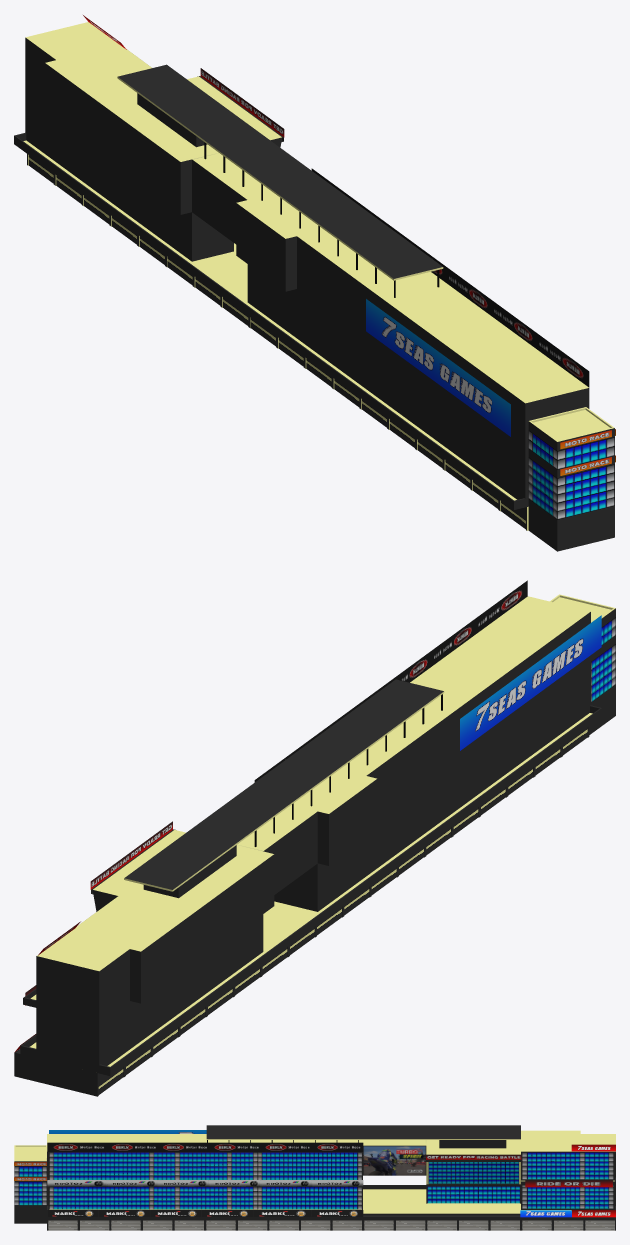
The model's file is Stadium_Glass.fbx.
The picture shows the model from 3 angles, top to bottom: view 1: azimuth 30°, elevation 25°; view 2: azimuth 150°, elevation 25°; view 3: azimuth 270°, elevation 25°; orthographic projection. The views are drawn at different scales.
Parts seen in each view (by area): view 1: polySurface1173, pPlane21, polySurface1230, pPlane60, polySurface1245, polySurface1241; view 2: polySurface1173, pPlane21, polySurface1230, pPlane60, polySurface1245; view 3: polySurface1173, pPlane59, pPlane60, pPlane55, pPlane57, pPlane14, pPlane13, pPlane21, polySurface1245, polySurface1230, pPlane46, pPlane16 (+4 smaller).
Part boxes in pixels (x1=…): polySurface1173: x1=14, y1=22, x2=614, y2=551; pPlane21: x1=366, y1=299, x2=510, y2=436; polySurface1230: x1=192, y1=153, x2=273, y2=244; pPlane60: x1=311, y1=168, x2=589, y2=387; polySurface1245: x1=200, y1=68, x2=284, y2=137; polySurface1241: x1=560, y1=429, x2=615, y2=475; polySurface1173: x1=14, y1=594, x2=615, y2=1096; pPlane21: x1=460, y1=615, x2=601, y2=750; polySurface1230: x1=237, y1=805, x2=317, y2=894; pPlane60: x1=254, y1=580, x2=527, y2=782; polySurface1245: x1=90, y1=821, x2=172, y2=889; polySurface1173: x1=14, y1=1125, x2=615, y2=1230; pPlane59: x1=48, y1=1220, x2=614, y2=1230; pPlane60: x1=47, y1=1142, x2=363, y2=1151; pPlane55: x1=47, y1=1210, x2=363, y2=1216; pPlane57: x1=47, y1=1180, x2=363, y2=1186; pPlane14: x1=363, y1=1146, x2=425, y2=1175; pPlane13: x1=525, y1=1180, x2=612, y2=1187; pPlane21: x1=49, y1=1130, x2=206, y2=1133; polySurface1245: x1=426, y1=1154, x2=521, y2=1159; polySurface1230: x1=363, y1=1140, x2=426, y2=1175; pPlane46: x1=520, y1=1210, x2=571, y2=1217; pPlane16: x1=426, y1=1183, x2=521, y2=1186.
Bounding box in the file's own units: 1.98 × 2.66 × 17.27.
